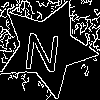N: (21, 23, 64, 73)
